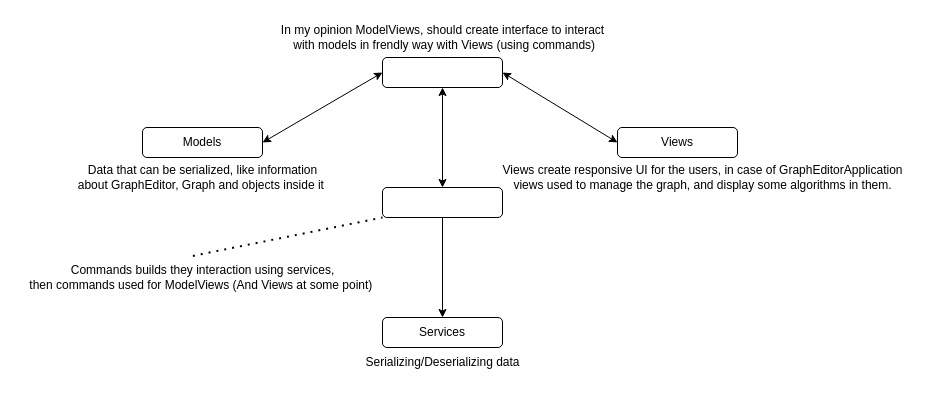
Some shapes in this 929 by 394 pixel diagram are drawn without their labels. The shapes that lost their labels are listed below. From the top down, each one's centre as x and y in pixels, then its label:
pixel 442 72: ModelViews
pixel 442 202: Commands
